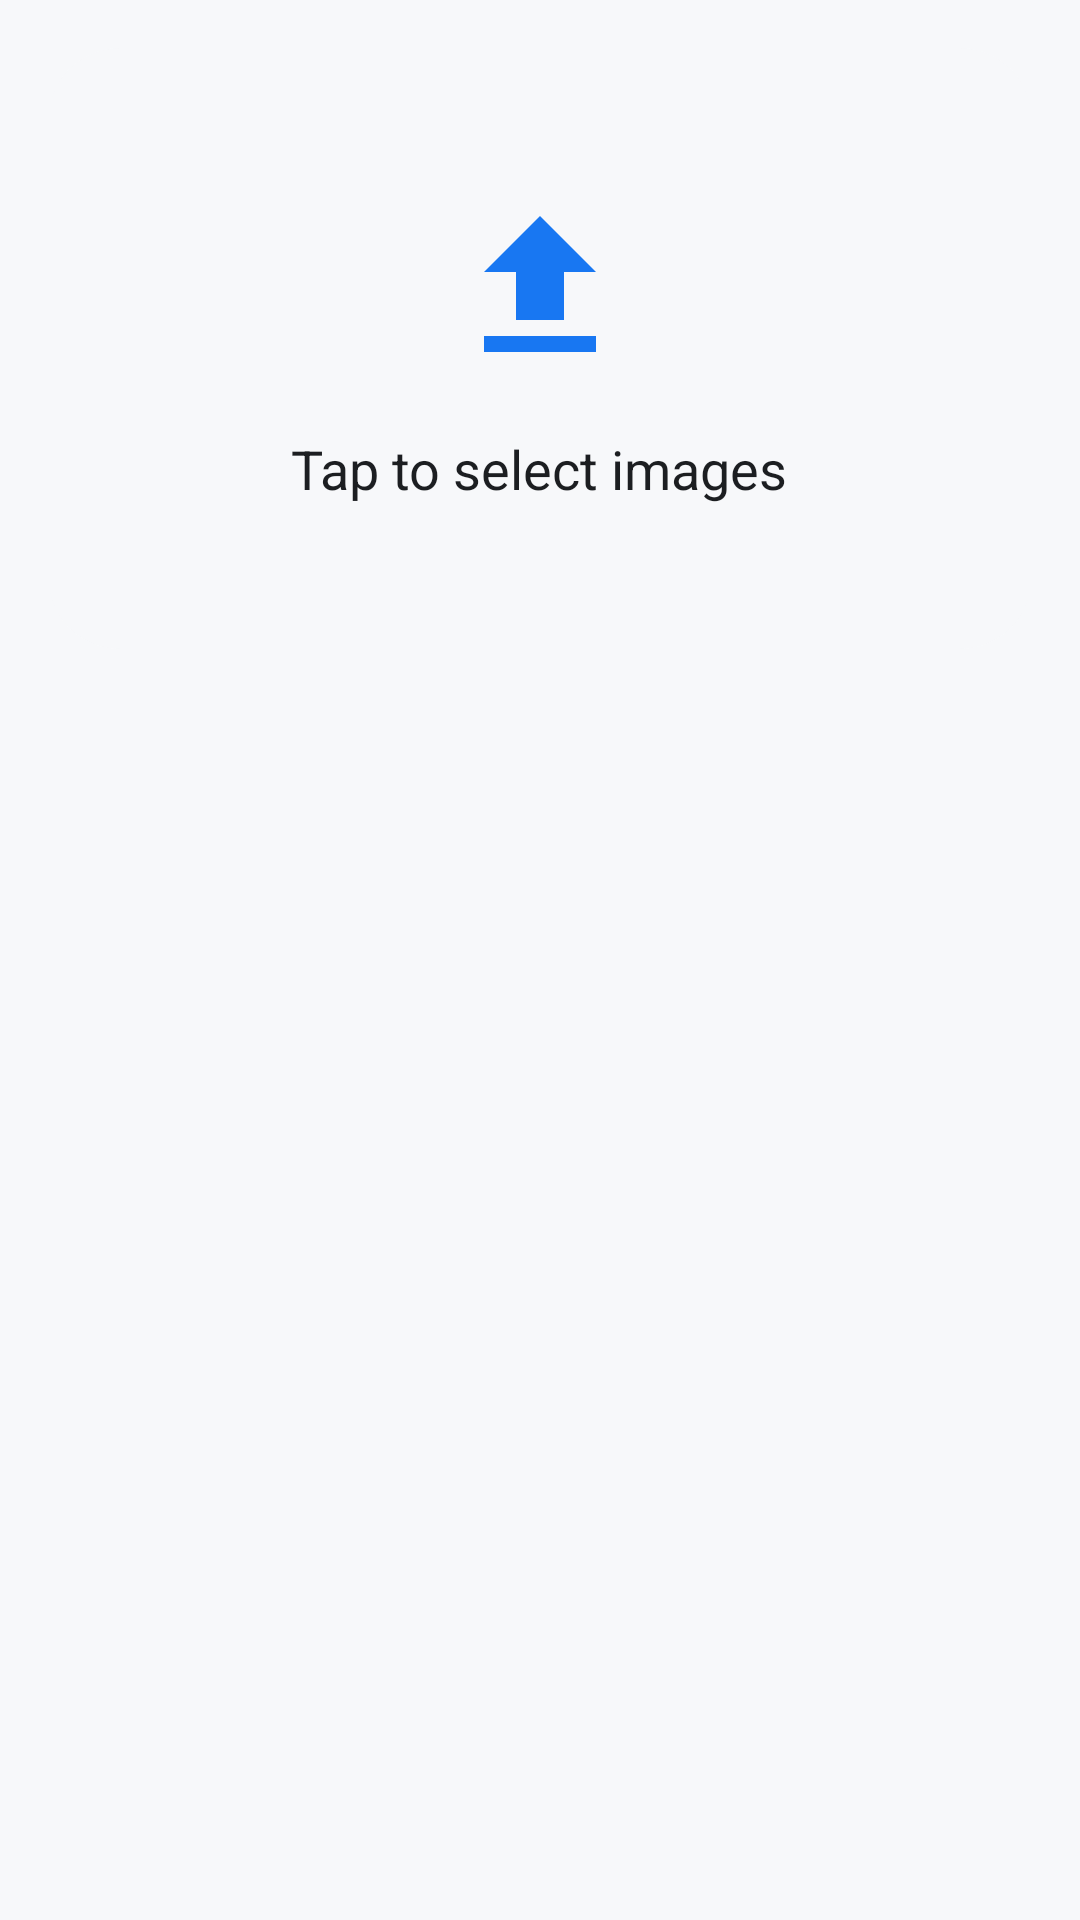

Named icons in this screenshot (1080x1920) and their bounding boxes, (x1, y1, x2, y2):
upload: (484, 216, 596, 352)
